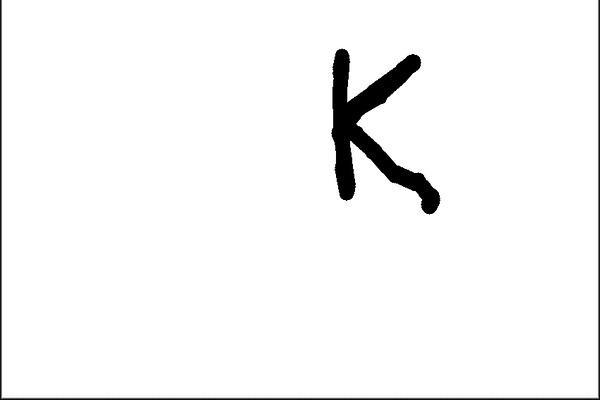K: (323, 39, 444, 222)
